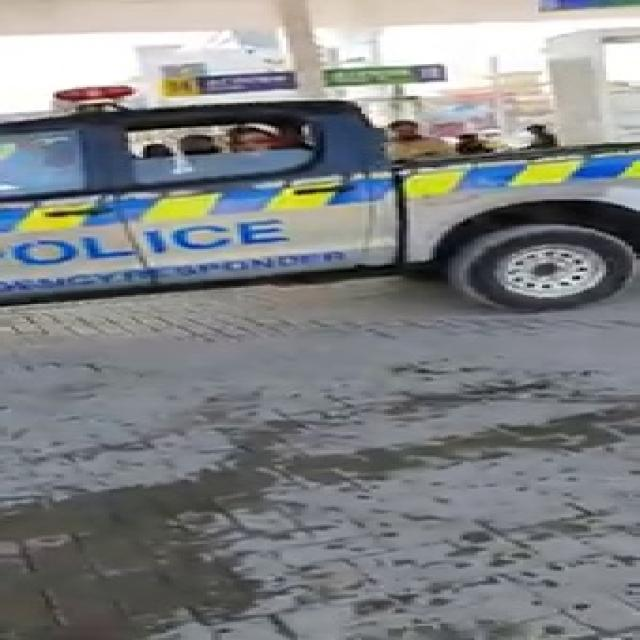police: (0, 97, 640, 335)
